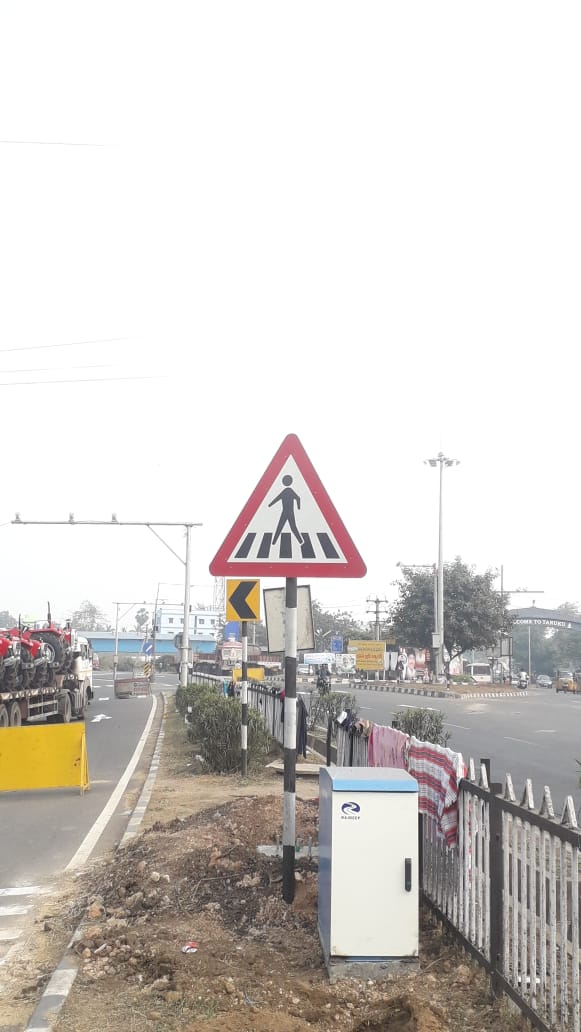pedestrian crossing: (204, 414, 374, 595)
